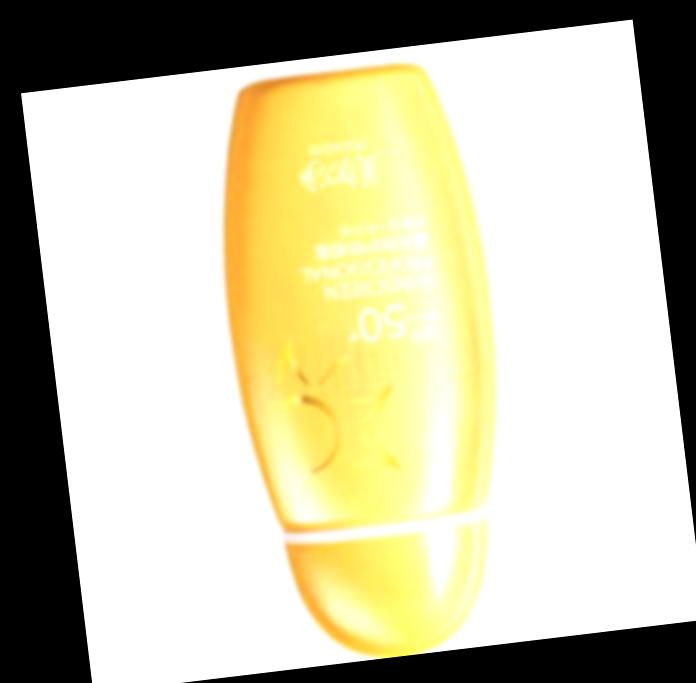cosmetic: (201, 53, 534, 670)
